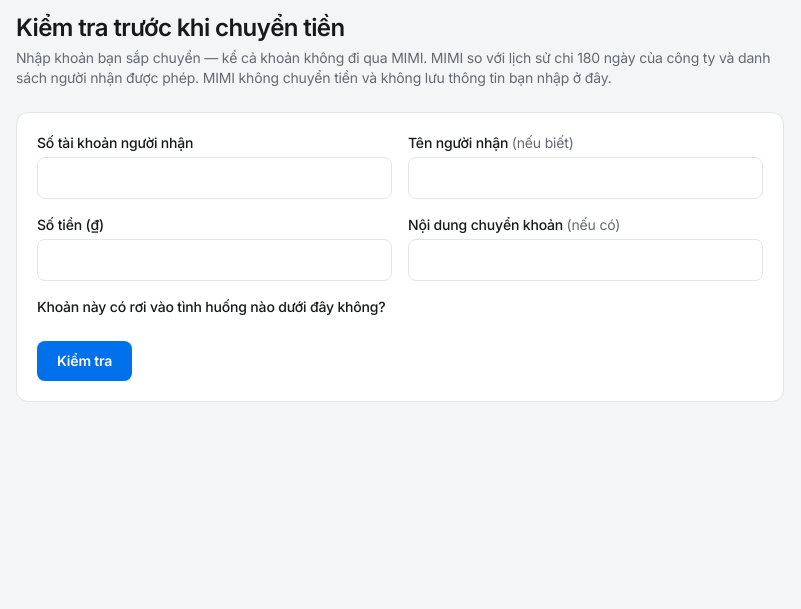
Test: Kiểm tra trước khi chuyển tiền › không có dấu hiệu: vẫn nói rõ "không có dấu hiệu không có nghĩa là an toàn", kèm lịch sử đã trả
Type "0011223344" into the field labelled "Số tài khoản người nhận".
click(214, 178); type("0011223344")  # box [37, 157, 392, 199]
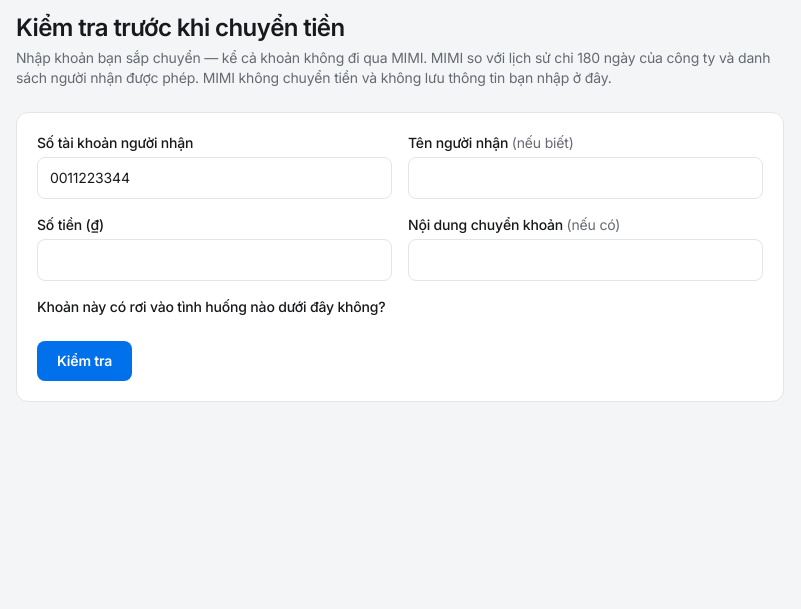
Type "1500000" into the field labelled "Số tiền (₫)".
click(214, 260); type("1500000")  # box [37, 239, 392, 281]
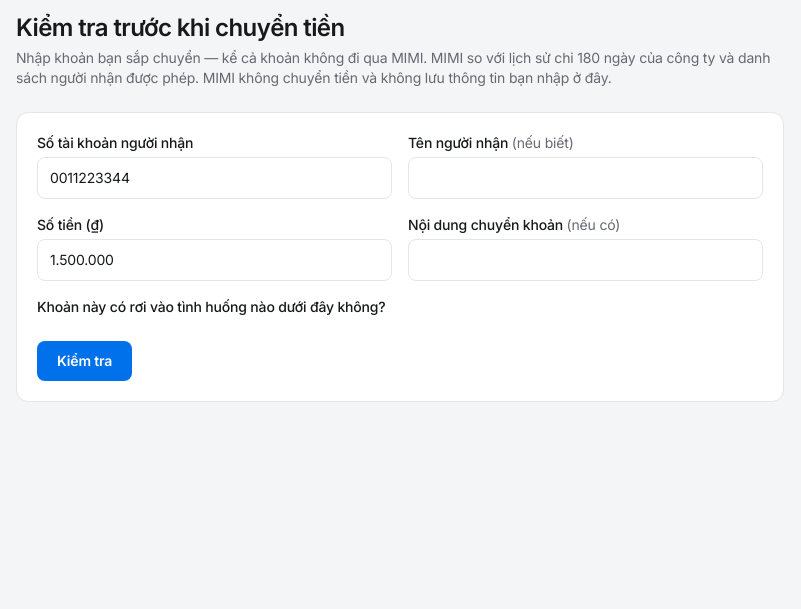
Click the button "Kiểm tra".
click(85, 361)  # box [37, 341, 132, 381]
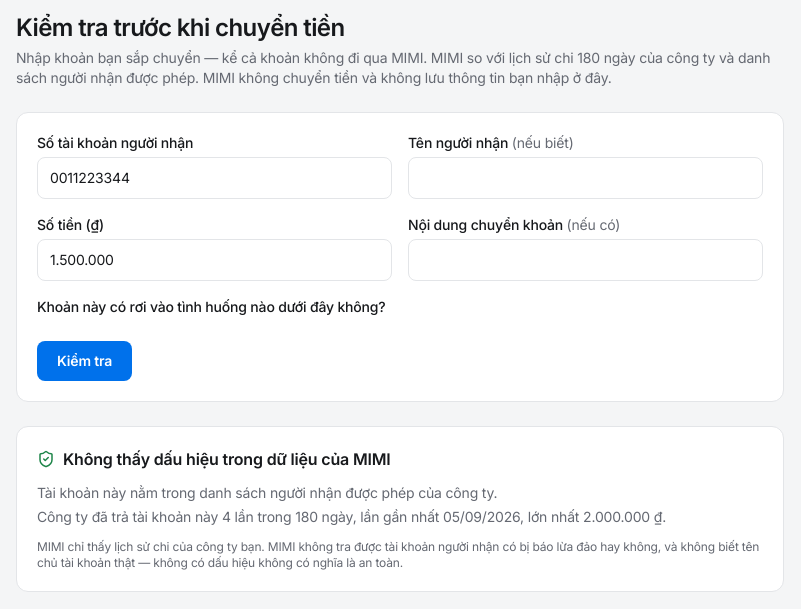
Result: the element named "Kết quả kiểm tra" shows "Không thấy dấu hiệu trong dữ liệu của MIMI" at [63, 449, 391, 469]
Result: the element named "Kết quả kiểm tra" shows "đã trả tài khoản này 4 lần trong 180 ngày, lần gần nhất 05/09/2026, lớn nhất 2.000.000 ₫" at [16, 426, 784, 592]
Result: the element named "Kết quả kiểm tra" shows "danh sách người nhận được phép" at [37, 484, 497, 501]
